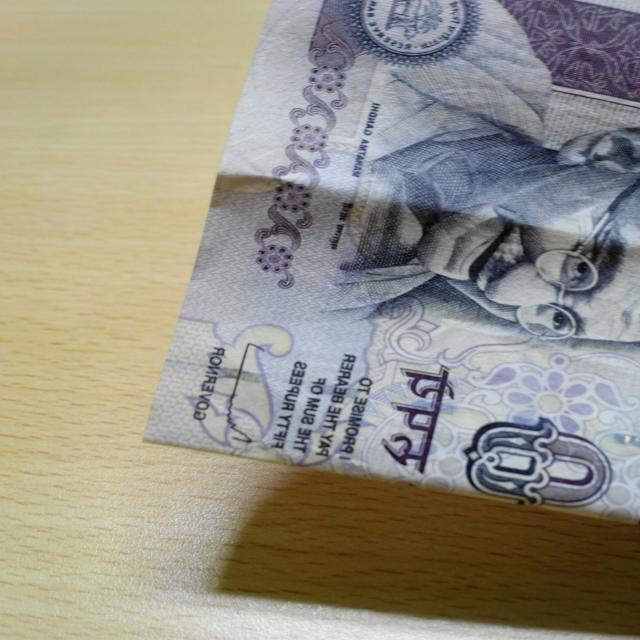50rs: (129, 3, 640, 523)
